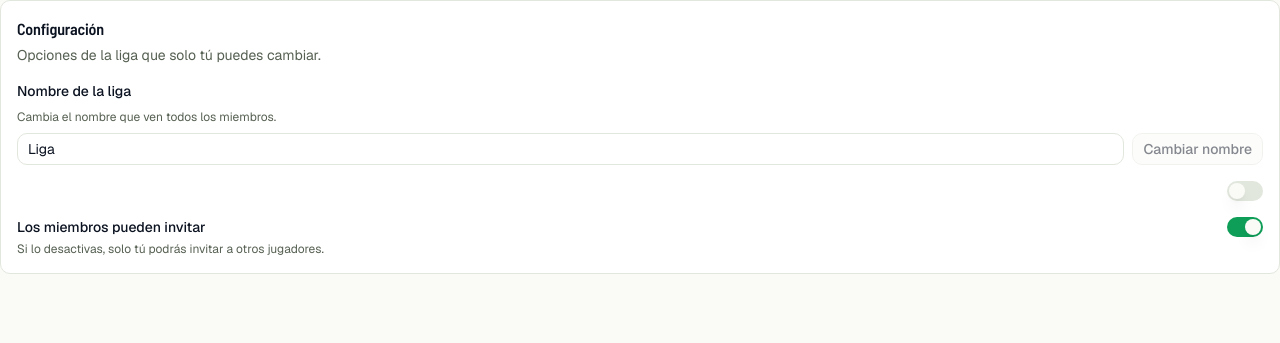
Test: PoolSettingsCardClient (Unit 45, US-45.2, BR-45.4) › reverts the Switch and shows the error when the action returns an error
The image size is (1280, 343).
Click the switch with test id "pool-settings-members-can-invite-switch" at (1245, 227), box left=1227, top=217, right=1263, bottom=237
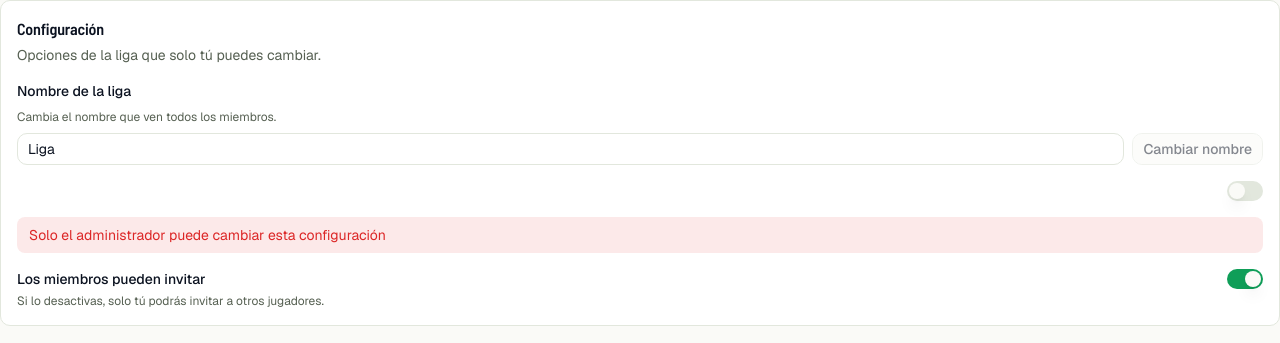
expect the message "Solo el administrador puede cambiar esta configuración" is shown: met, box left=17, top=217, right=1263, bottom=253
expect the message reads "Solo el administrador puede cambiar esta configuración": met, box left=29, top=226, right=386, bottom=244
